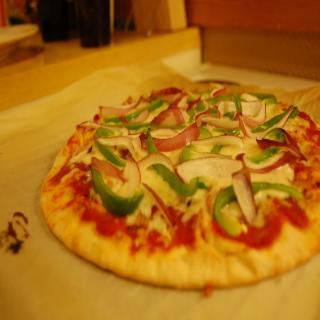Pizza: (38, 82, 320, 288)
